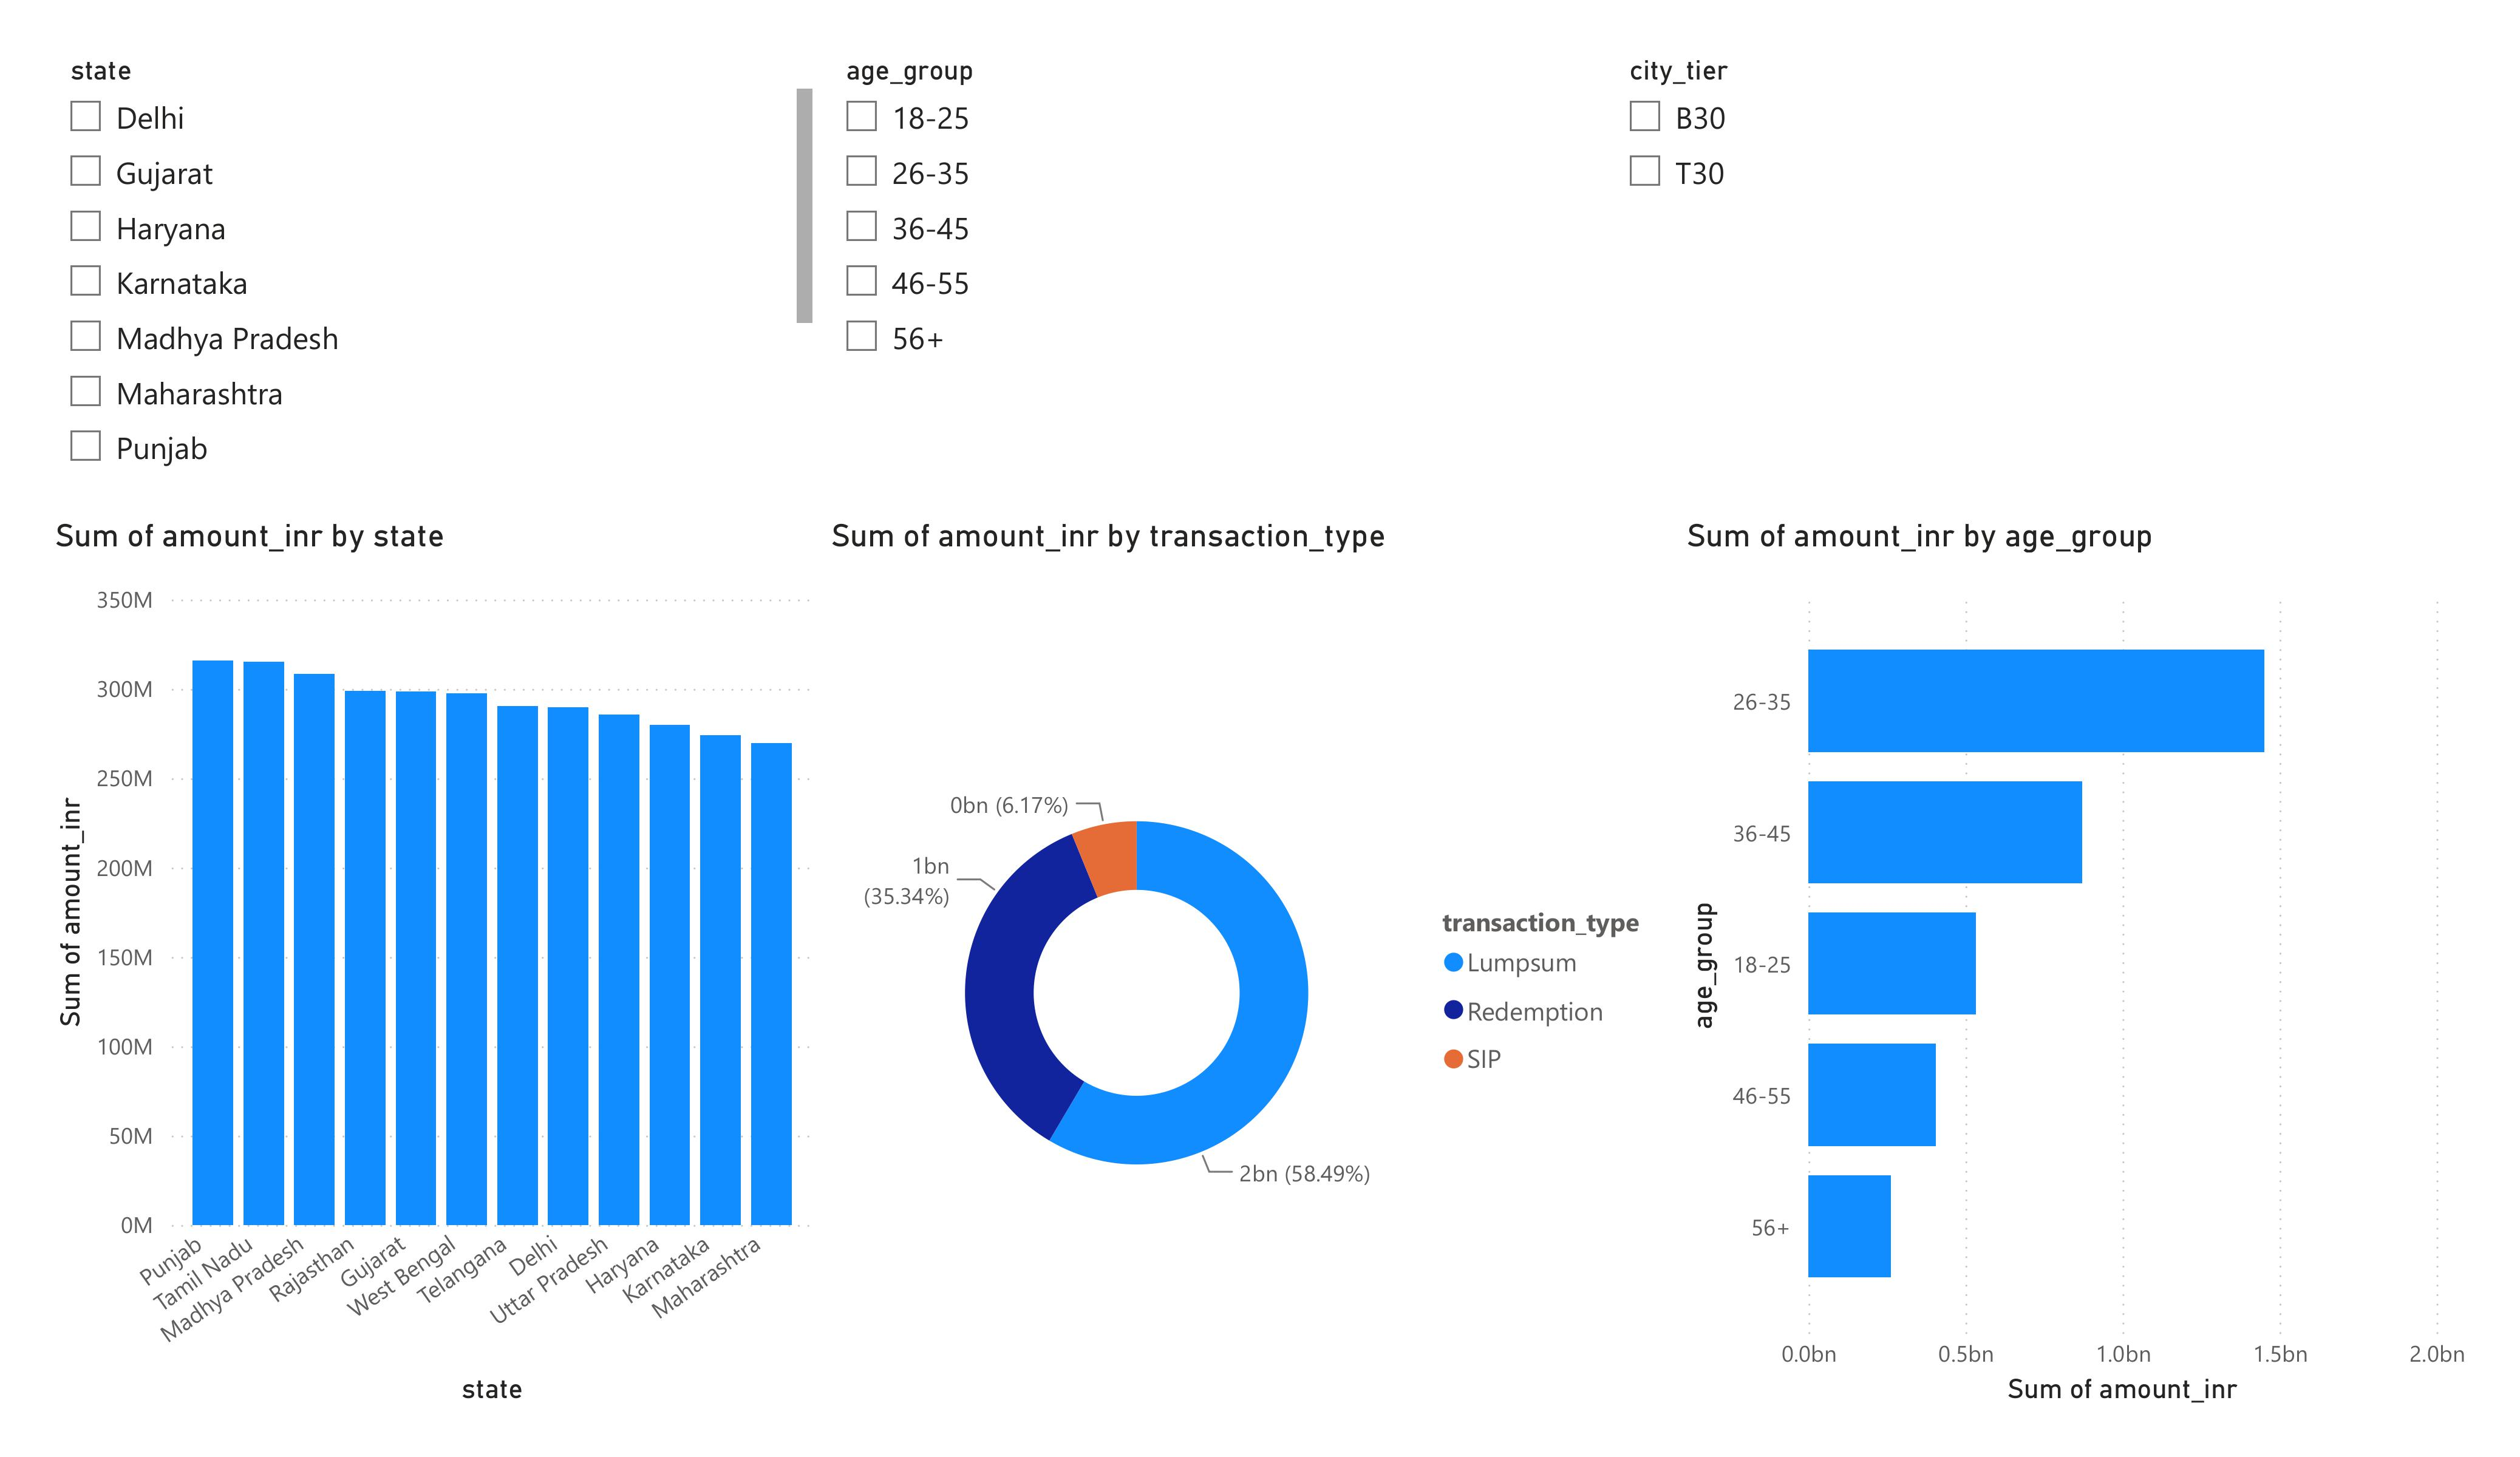

Layout of this report page (visuals, bound fields, positions):
{"tool":"powerbi","page":{"name":"Investor Analytics","canvas":[1280,720],"ordinal":2},"visuals":[{"type":"columnChart","fields":{"Category":["08_investor_transactions.state"],"Y":["Sum(08_investor_transactions.amount_inr)"]},"box":[0,248.5,409.2,472.1],"z":0},{"type":"donutChart","fields":{"Category":["08_investor_transactions.transaction_type"],"Y":["Sum(08_investor_transactions.amount_inr)"]},"box":[409.2,248.5,450.6,472.1],"z":1},{"type":"barChart","fields":{"Category":["08_investor_transactions.age_group"],"Y":["Sum(08_investor_transactions.amount_inr)"]},"box":[859.7,248.5,420.7,472.1],"z":2},{"type":"slicer","fields":{"Values":["08_investor_transactions.state"]},"box":[0,0,409.2,235.2],"z":3},{"type":"slicer","fields":{"Values":["08_investor_transactions.age_group"]},"box":[409.2,0,412.5,248.5],"z":4},{"type":"slicer","fields":{"Values":["08_investor_transactions.city_tier"]},"box":[821.6,0,458.8,248.5],"z":5}]}

Visuals, with their boxes on the page's 1280x720 design canvas (x1, y1, x2, y2). These are canvas units, not pixel positions in the 2520x1457 screenshot, which may show the page scaled, cropped or inside an application window:
columnChart - 08_investor_transactions.state x Sum(08_investor_transactions.amount_inr): (x1=0, y1=248, x2=409, y2=721)
donutChart - 08_investor_transactions.transaction_type x Sum(08_investor_transactions.amount_inr): (x1=409, y1=248, x2=860, y2=721)
barChart - 08_investor_transactions.age_group x Sum(08_investor_transactions.amount_inr): (x1=860, y1=248, x2=1280, y2=721)
slicer - 08_investor_transactions.state: (x1=0, y1=0, x2=409, y2=235)
slicer - 08_investor_transactions.age_group: (x1=409, y1=0, x2=822, y2=248)
slicer - 08_investor_transactions.city_tier: (x1=822, y1=0, x2=1280, y2=248)
